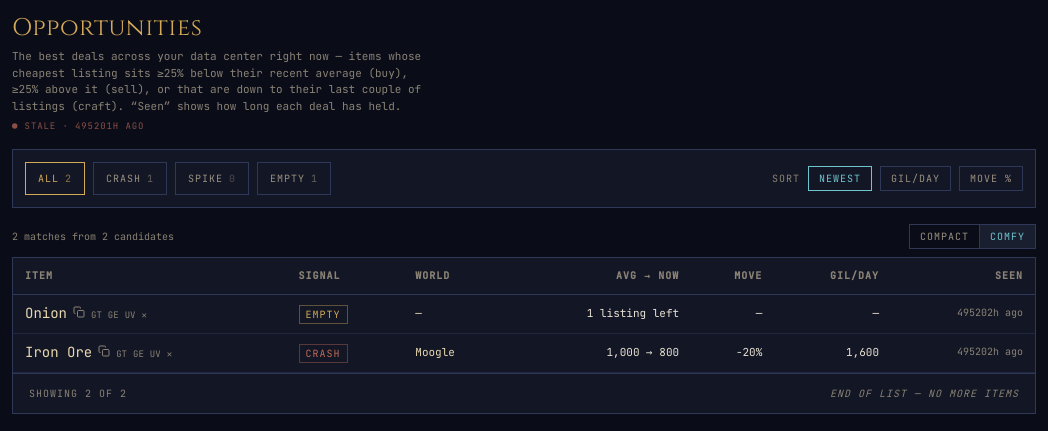
Scenario: OpportunitiesView › filters by kind
expect the link "Iron Ore" is shown: met, box [25, 342, 92, 362]
Step 1. Click the button "Empty1" → (294, 178), box [257, 162, 331, 195]
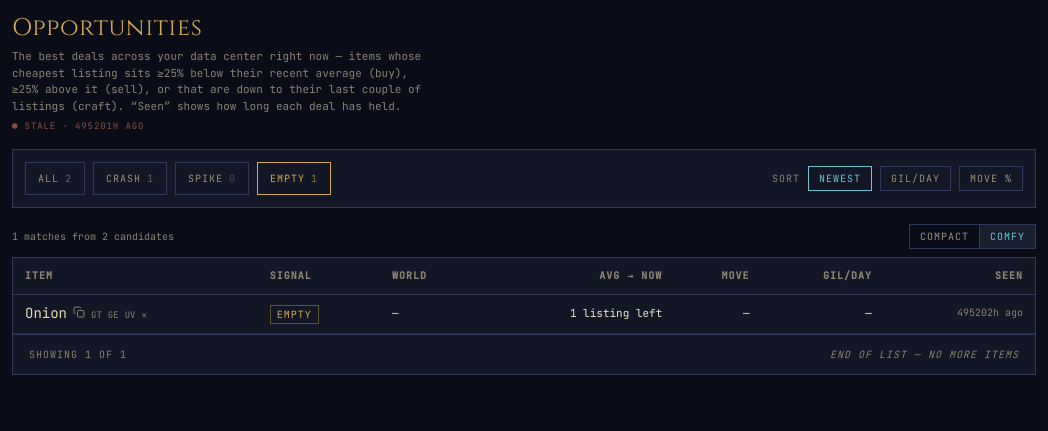
expect the link "Onion" is shown: met, box [25, 303, 67, 323]
expect the link "Iron Ore" is gone: met
